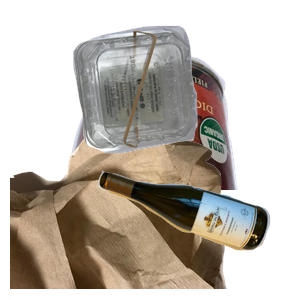glass: (95, 168, 300, 300)
metal: (62, 47, 300, 227)
plastic: (71, 23, 300, 169)
trash: (10, 120, 229, 300)
